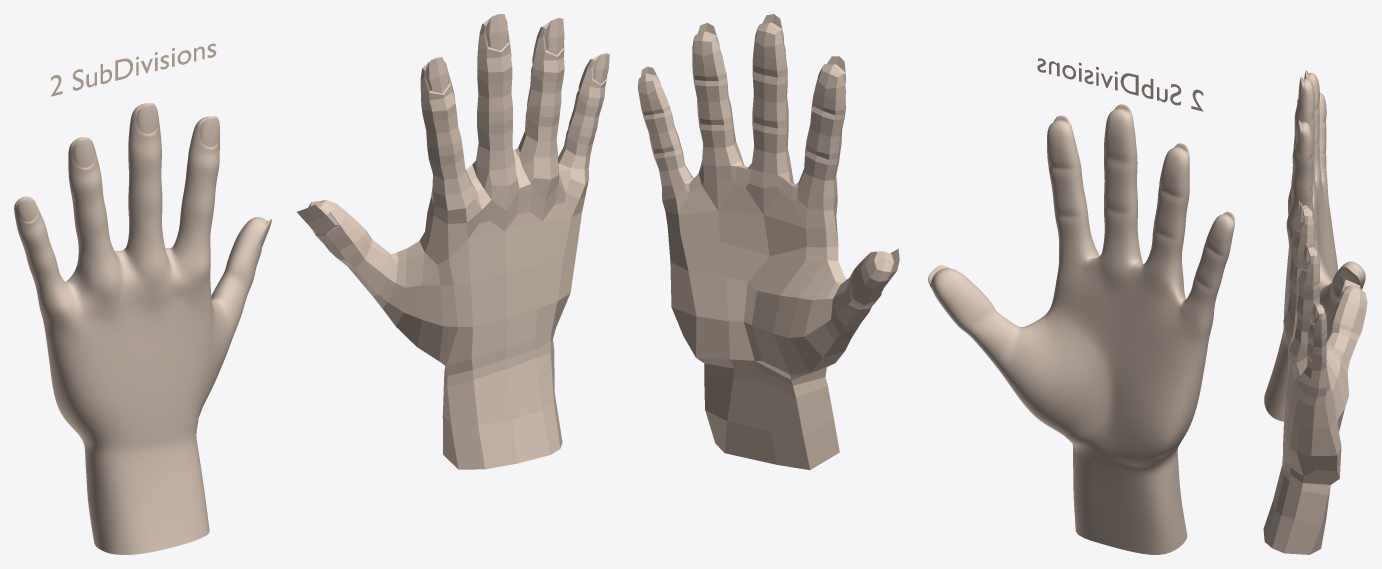
Rendered from hands.fbx.
3 renders of one model, left to right at view 1: azimuth 30°, elevation 25°; view 2: azimuth 150°, elevation 25°; view 3: azimuth 270°, elevation 25°, orthographic. The views are drawn at different scales.
Parts seen in each view (by area): view 1: Mesh; view 2: Mesh; view 3: Mesh.
Boxes of the visible parts, bbox=[...] form: Mesh: bbox=[14, 14, 609, 554]; Mesh: bbox=[638, 14, 1234, 554]; Mesh: bbox=[1263, 70, 1367, 554].
Bounding box in the file's own units: 5.56 × 4.25 × 1.11.
